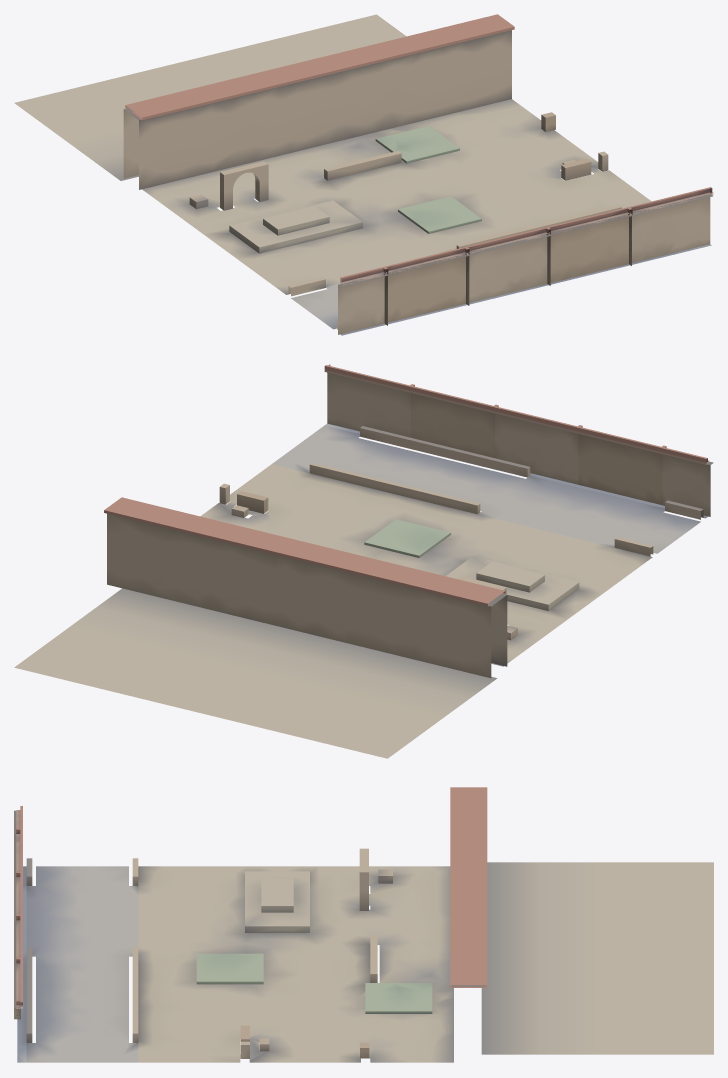
The picture shows the model from 3 angles, top to bottom: view 1: azimuth 30°, elevation 25°; view 2: azimuth 150°, elevation 25°; view 3: azimuth 270°, elevation 25°; orthographic projection. The views are drawn at different scales.
Parts seen in each view (by area): view 1: t; view 2: t; view 3: t.
Boxes of the visible parts, bbox=[...] form: t: bbox=[14, 14, 713, 335]; t: bbox=[14, 364, 713, 758]; t: bbox=[14, 787, 713, 1062].
Size of the model in its own units: 51.27 by 9.35 by 75.37.
